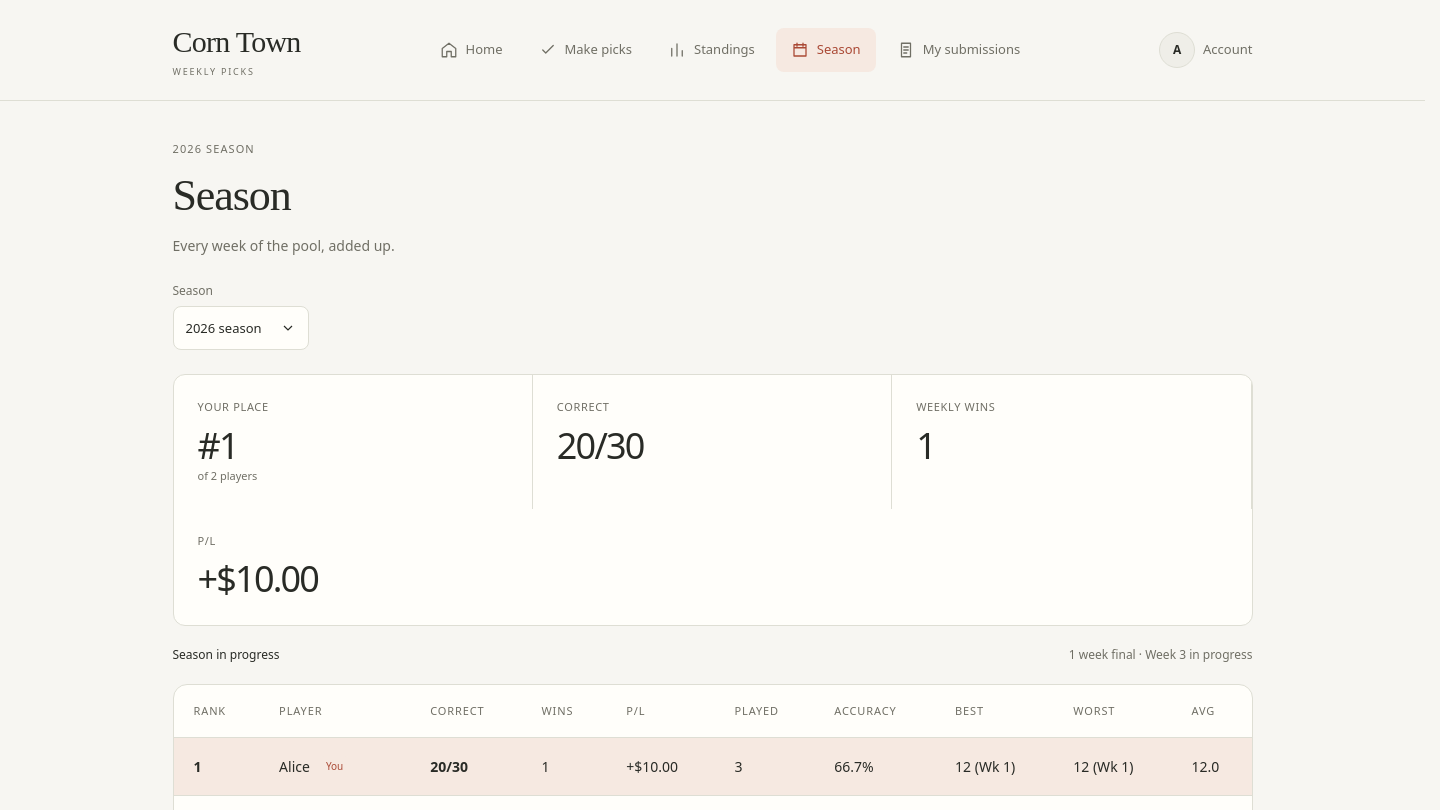
Test: season page › refetches when the season changes and offers picks for an empty season
Click the dropdown labelled "season": (240, 328) [172,306,308,350]
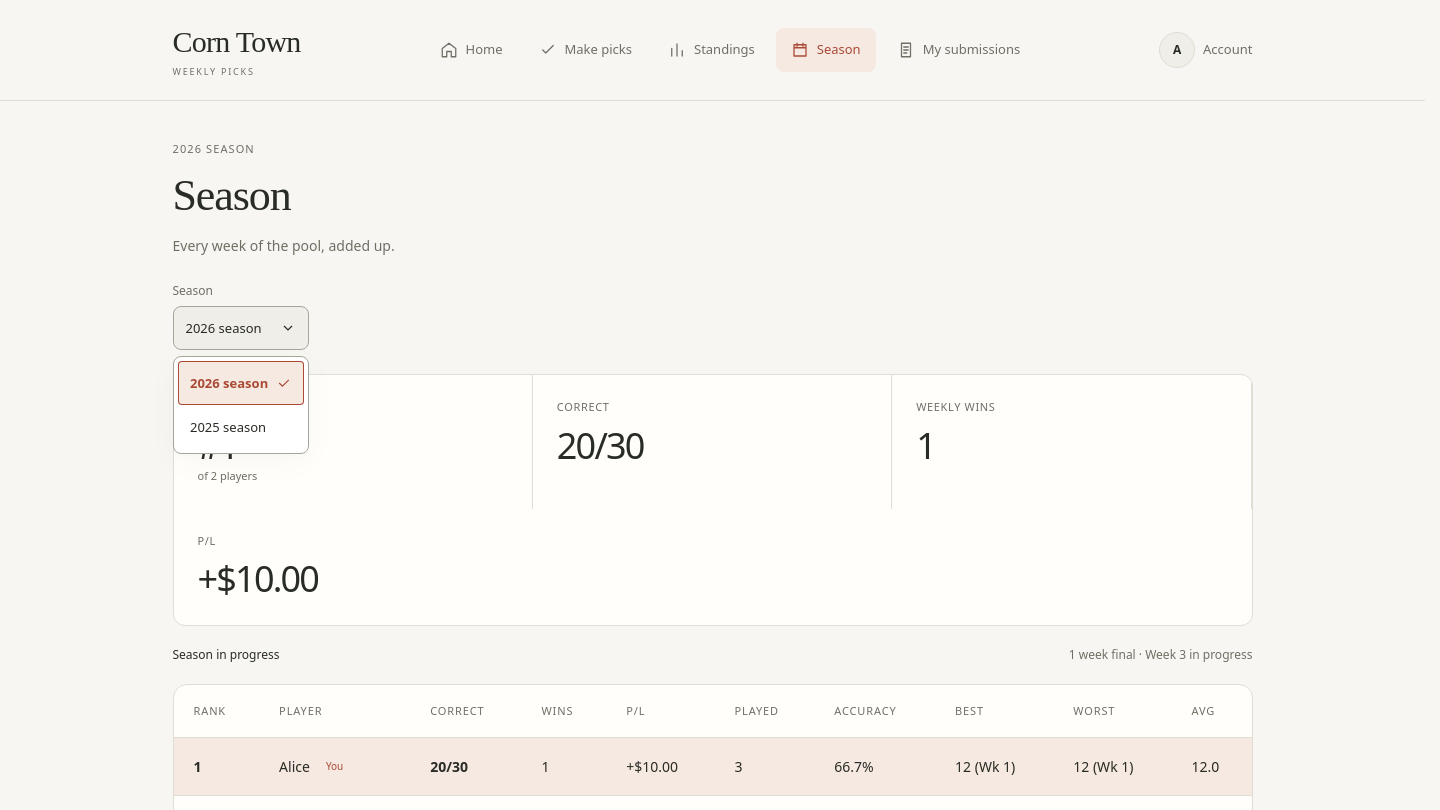
Click the option "2025 season": (228, 427) [190,418,266,436]
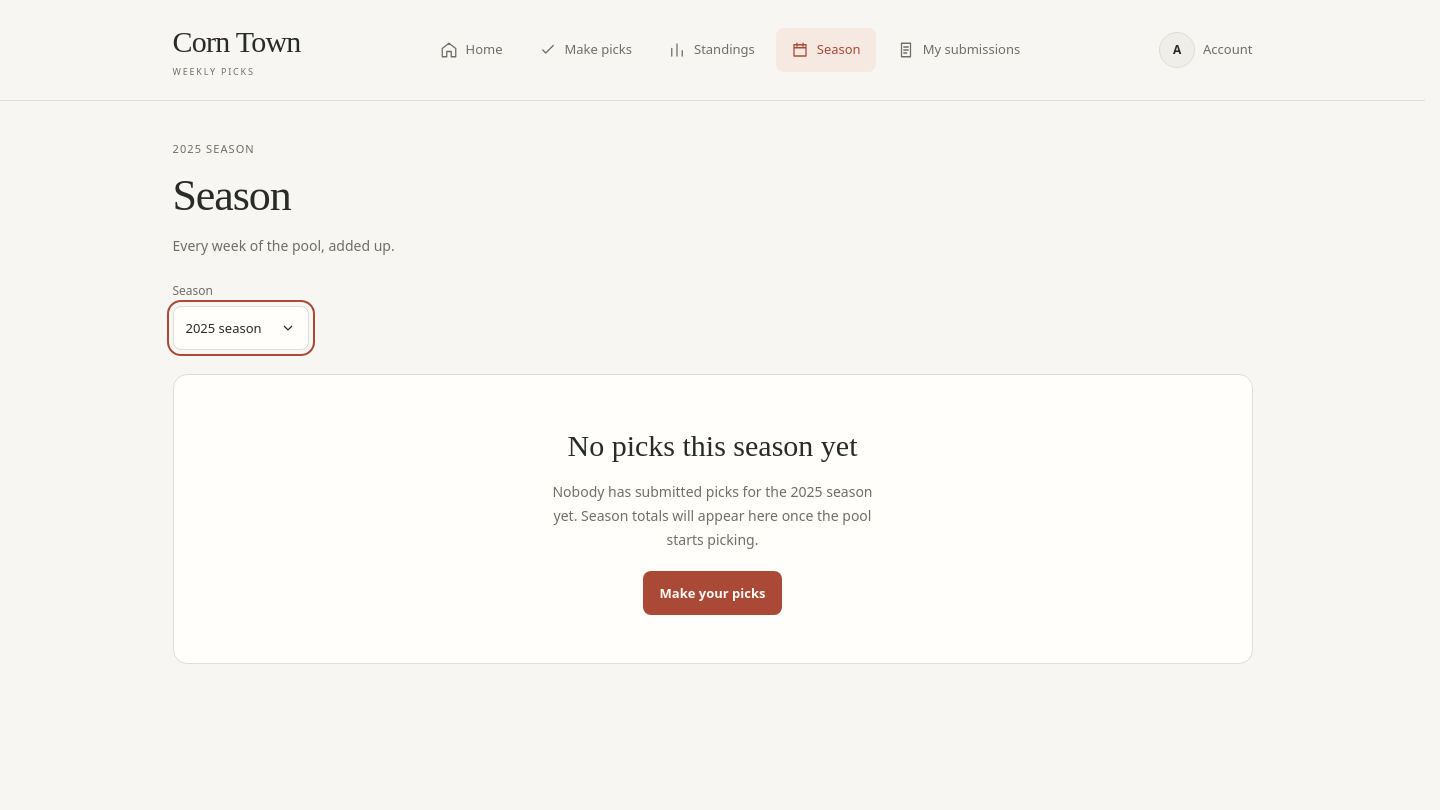
Now the heading "No picks this season yet" is shown, box [568,429,858,462]
